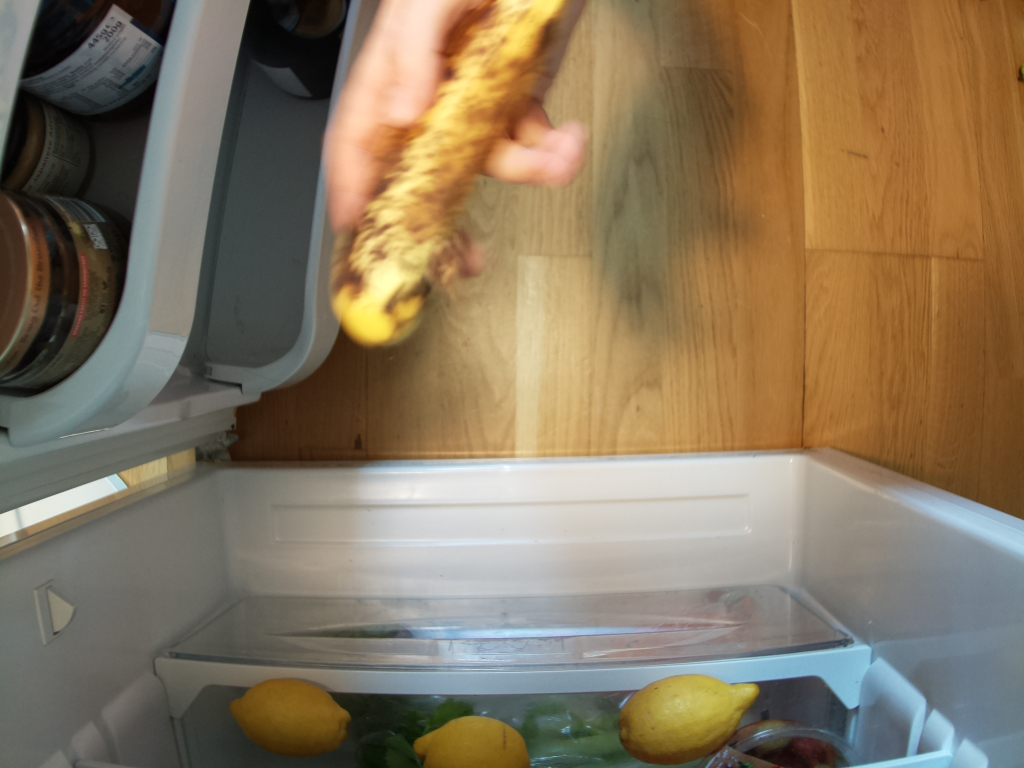banana-overripe: (333, 1, 594, 349)
